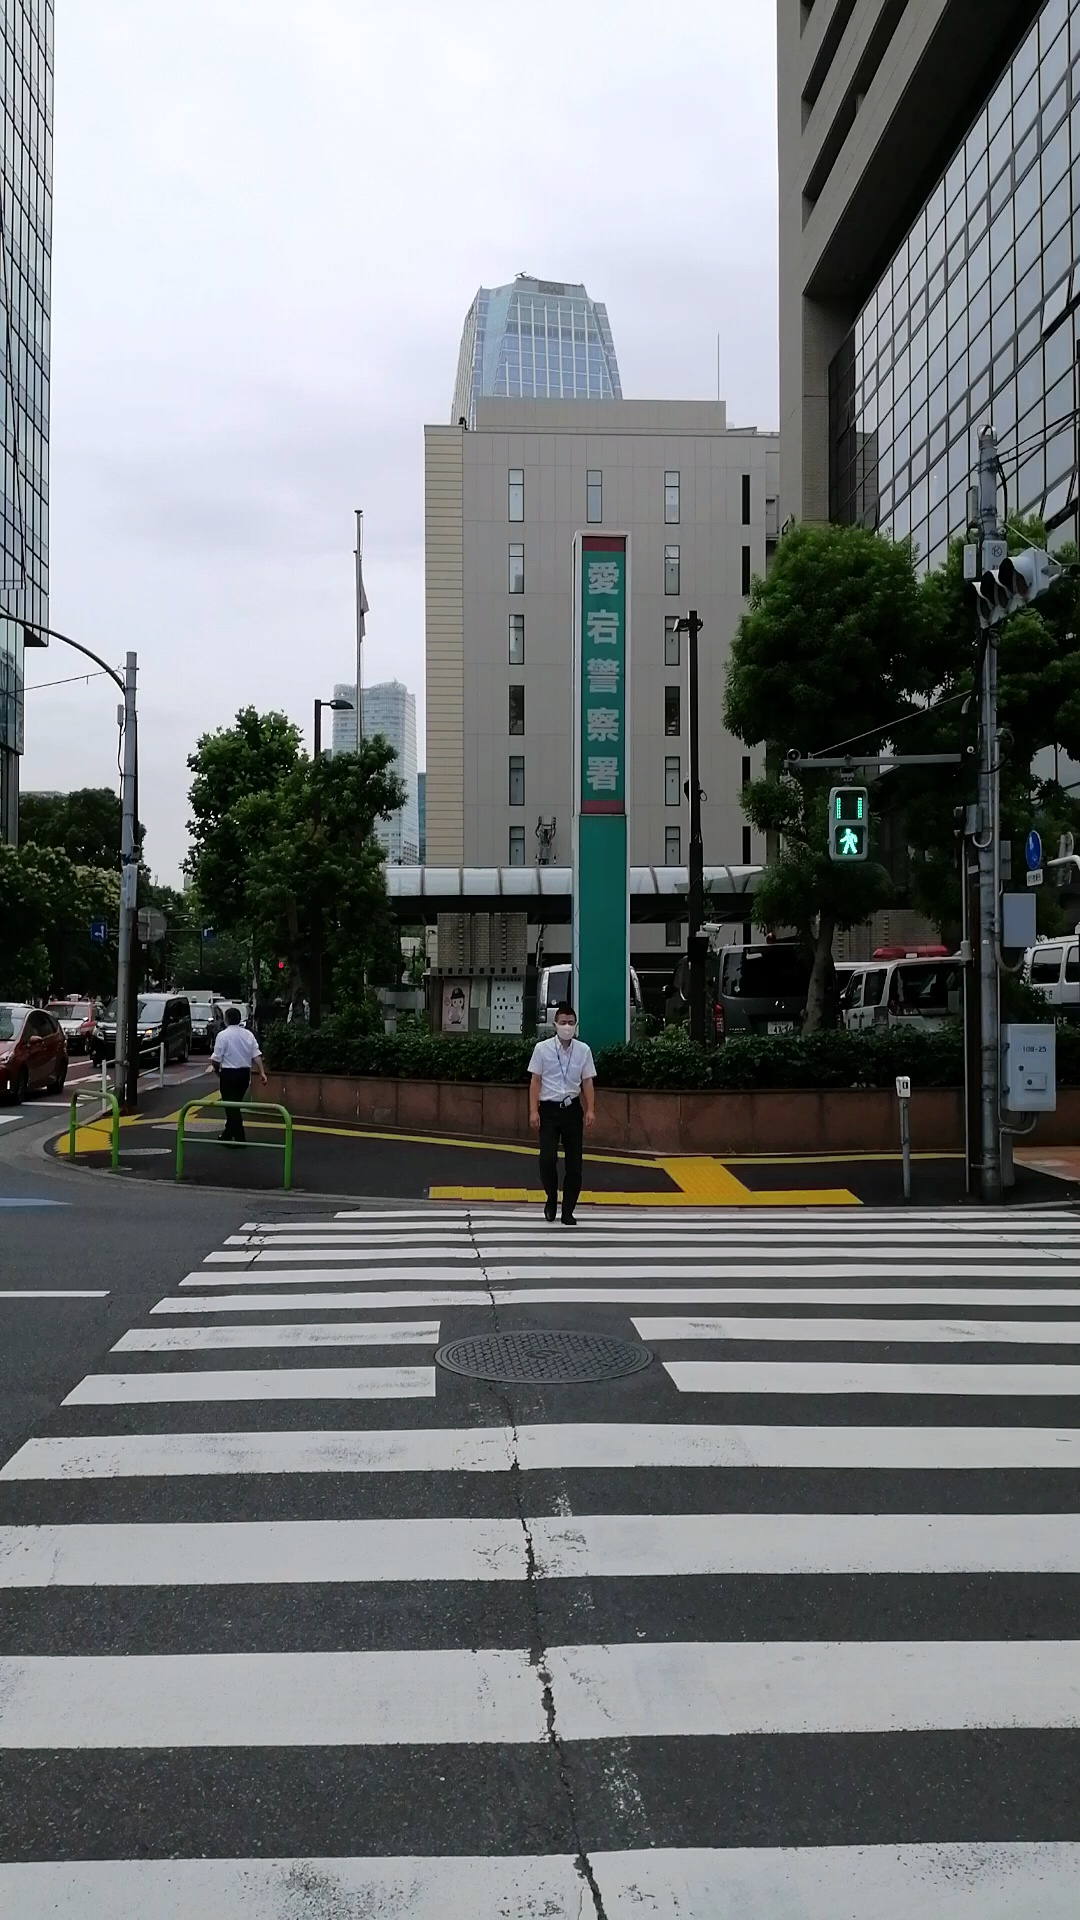green: (825, 783, 868, 862)
